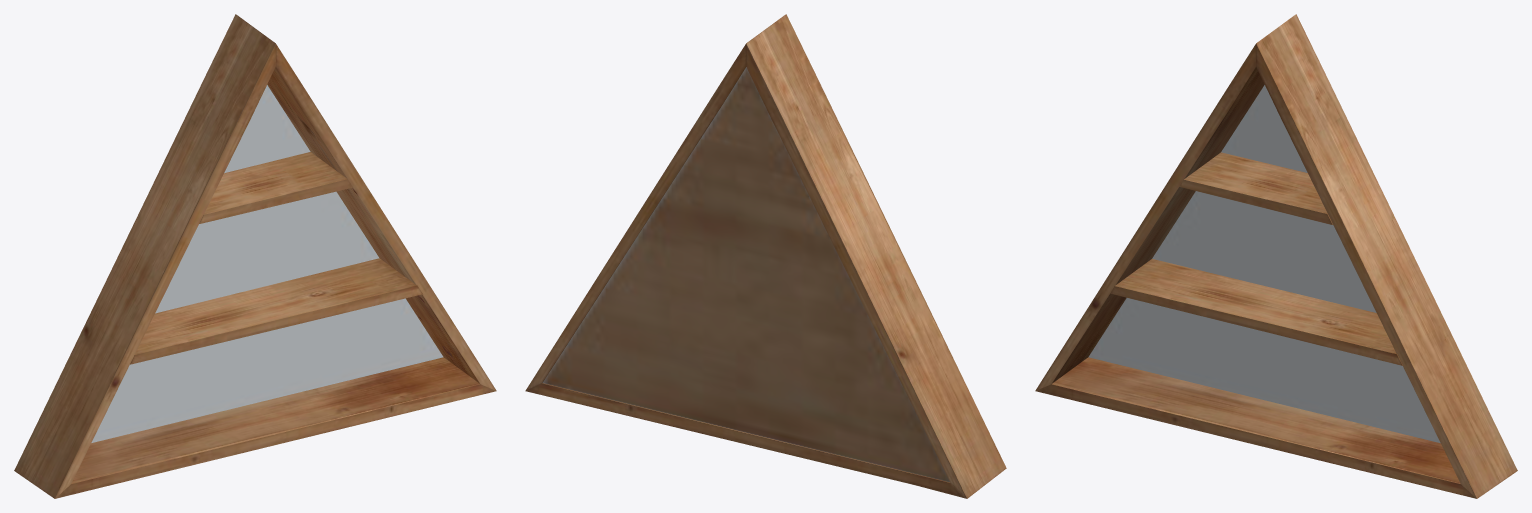
File: B07HSK9SVW.glb
3 renders of one model, left to right at view 1: azimuth 30°, elevation 25°; view 2: azimuth 150°, elevation 25°; view 3: azimuth 330°, elevation 25°, orthographic.
Visible parts, largest first — view 1: RootNode; view 2: RootNode; view 3: RootNode.
Part boxes in pixels (left/top/right/bottom): RootNode: left=14, top=14, right=496, bottom=498; RootNode: left=525, top=14, right=1006, bottom=498; RootNode: left=1035, top=14, right=1517, bottom=498.
Size of the model in its own units: 0.6307 by 0.5478 by 0.0999.
1 material, 1 textured.
